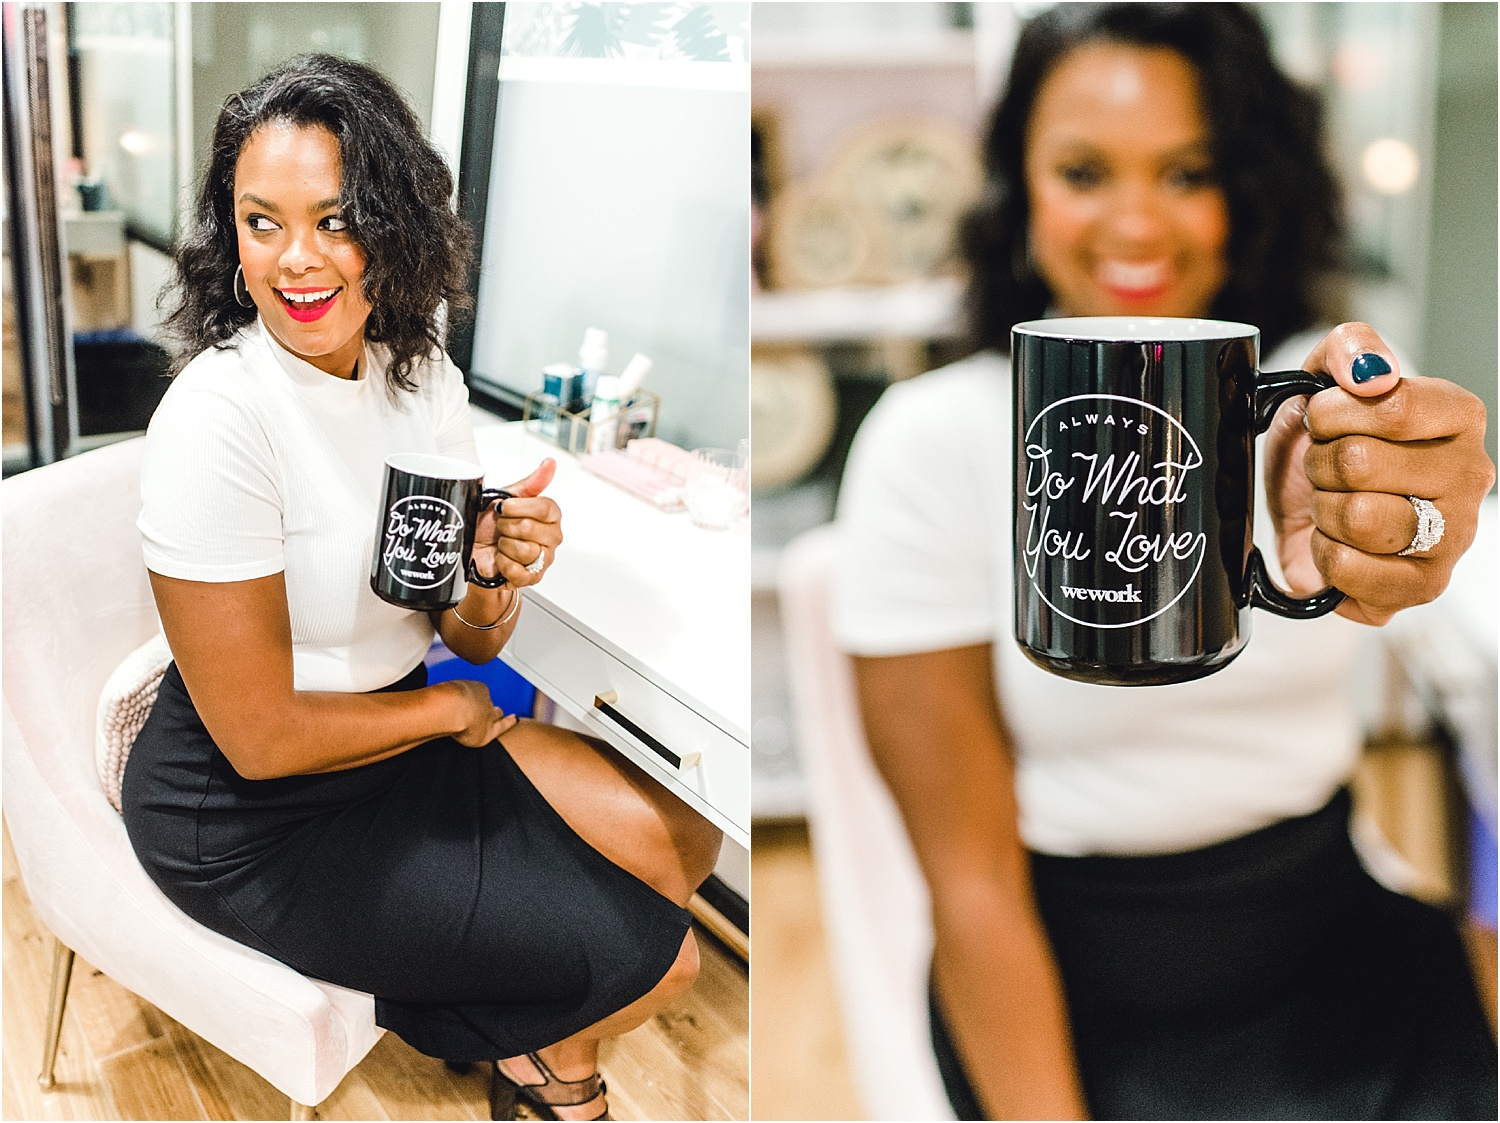wework: (1057, 578, 1149, 606)
